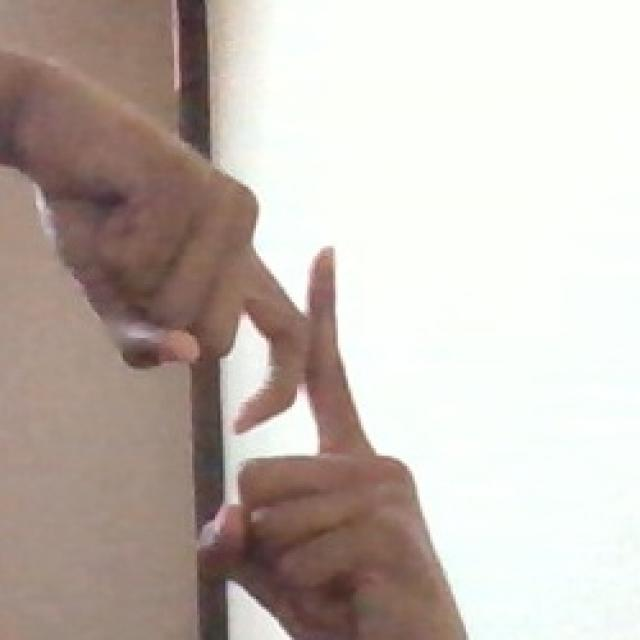Alphabet-K: (33, 55, 474, 640)
